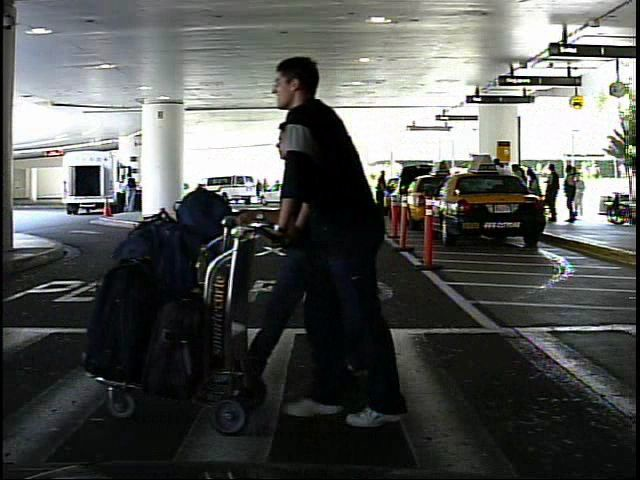person: (265, 49, 446, 428), (286, 112, 347, 385), (575, 172, 595, 218), (114, 172, 131, 215)
